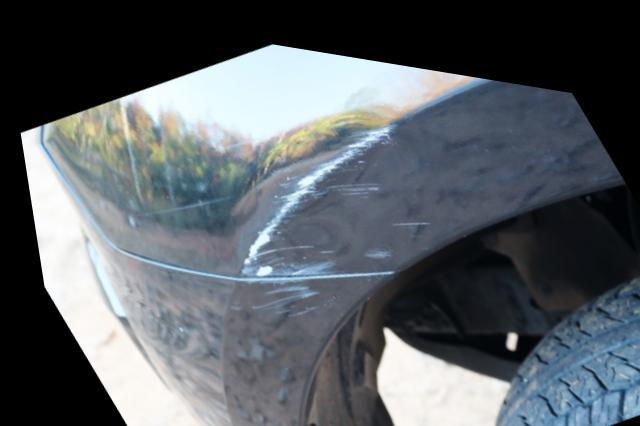scratch: (228, 102, 415, 272), (232, 270, 323, 317)
